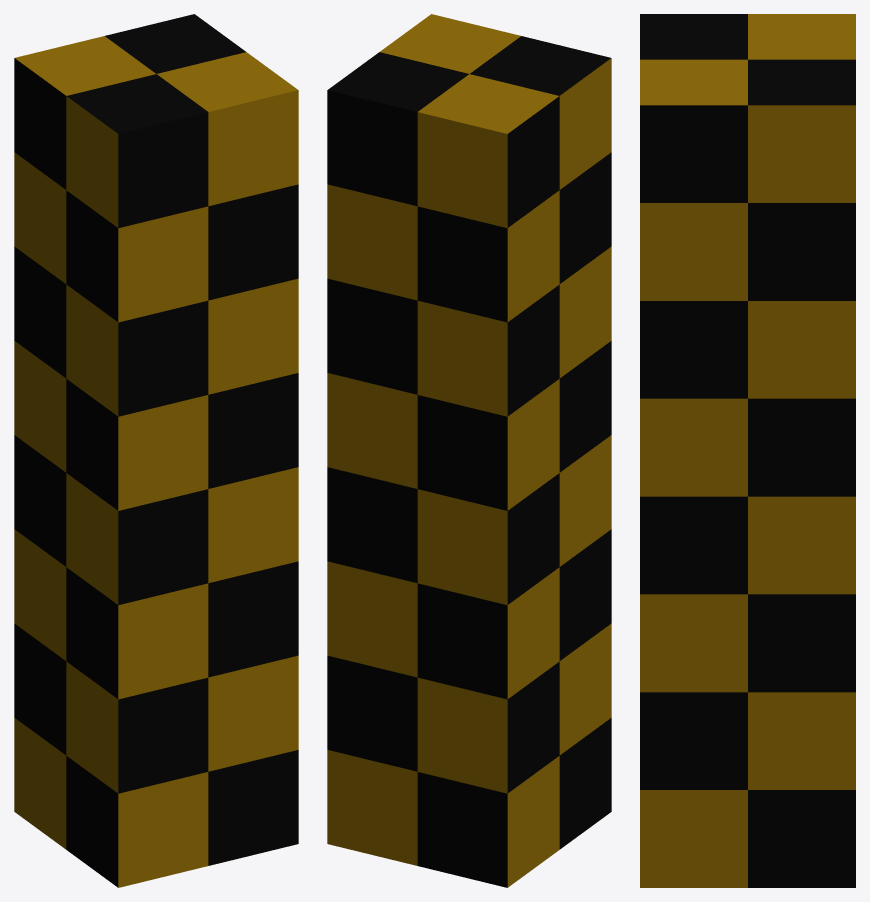
3 views of the same model, side by side, from view 1: azimuth 30°, elevation 25°; view 2: azimuth 150°, elevation 25°; view 3: azimuth 270°, elevation 25° (orthographic). The views are drawn at different scales.
Parts seen in each view (by area): view 1: Cube.069; view 2: Cube.069; view 3: Cube.069.
Part boxes in pixels (<box>): Cube.069: <box>14,14,298,887</box>; Cube.069: <box>327,14,611,887</box>; Cube.069: <box>640,14,855,887</box>.
Bounding box in the file's own units: 400 × 1600 × 400.
